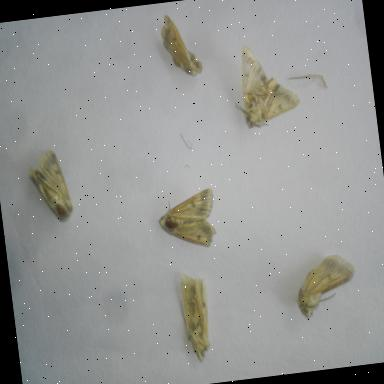abw: (225, 36, 306, 132), (290, 246, 364, 324), (172, 263, 220, 369), (153, 184, 222, 256), (22, 140, 78, 228), (156, 6, 206, 84)
